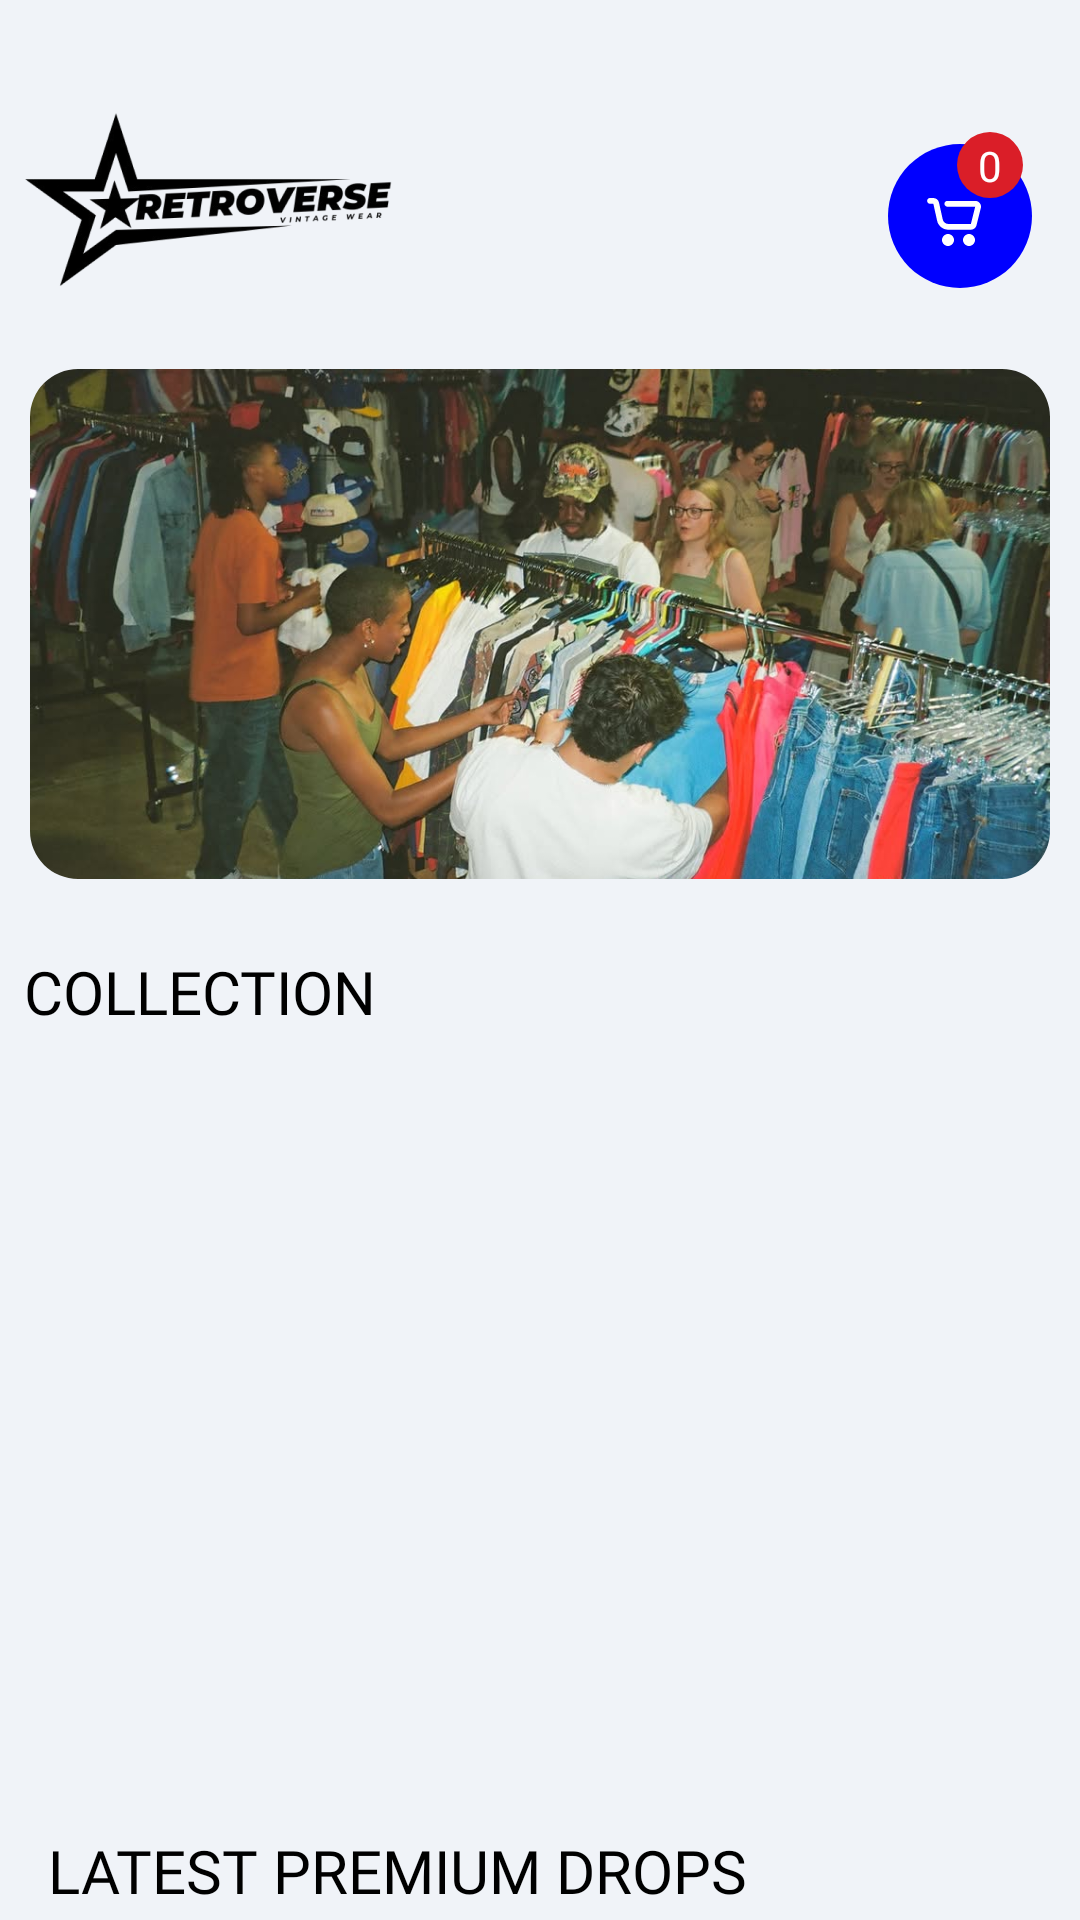

Icon click points for this 1080*1920 phone screenshot, format point (x, y):
badge: point (990, 165)
